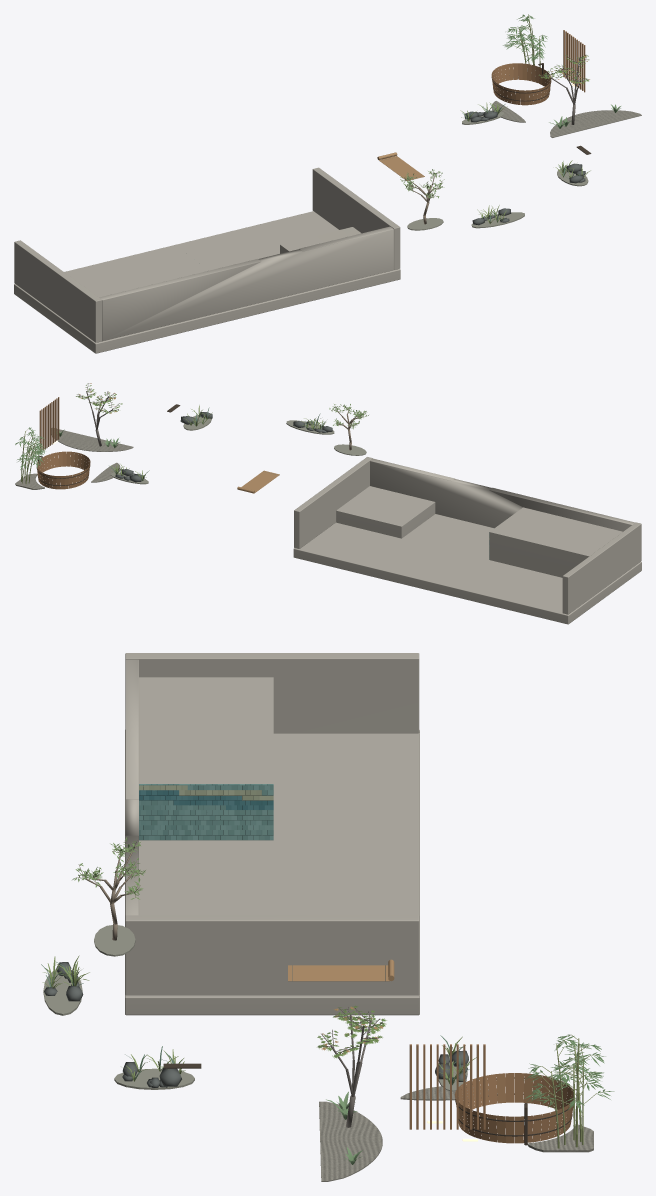
Rendered from detail-ocean-baths.glb.
The picture shows the model from 3 angles, top to bottom: view 1: azimuth 30°, elevation 25°; view 2: azimuth 150°, elevation 25°; view 3: azimuth 270°, elevation 25°; orthographic projection. The views are drawn at different scales.
Visible parts, largest first — view 1: core_estate_pool__warm cut stone, core_workout_garden_ofuro_staves__spa oiled cedar wood, core_bath_roji_gravel, core_workout_garden_gravel_beds__garden river gravel, core_workout_garden_bath_screen__spa oiled cedar wood, core_workout_garden_river_stones__garden flamed basalt, core_bath_roji_leaves, core_workout_garden_mat__garden cork; view 2: core_estate_pool__warm cut stone, core_workout_garden_ofuro_staves__spa oiled cedar wood, core_bath_roji_gravel, core_workout_garden_gravel_beds__garden river gravel, core_workout_garden_bath_screen__spa oiled cedar wood, core_workout_garden_river_stones__garden flamed basalt, core_bath_roji_leaves, core_workout_garden_mat__garden cork, core_workout_garden_sedge__coastal sedge leaf, core_bath_roji_culms, core_bath_roji_maple_limb; view 3: core_estate_pool__warm cut stone, core_workout_garden_ofuro_staves__spa oiled cedar wood, core_bath_roji_gravel, core_workout_garden_gravel_beds__garden river gravel, core_workout_garden_bath_screen__spa oiled cedar wood, core_workout_garden_mat__garden cork, core_workout_garden_river_stones__garden flamed basalt, core_bath_roji_leaves, core_bath_roji_culms, core_bath_roji_maple_limb, core_workout_garden_sedge__coastal sedge leaf, core_bath_roji_maple_crown (+2 smaller).
Boxes of the visible parts, x1,y1,x2,y2 form: core_estate_pool__warm cut stone: (14, 167, 400, 353); core_workout_garden_ofuro_staves__spa oiled cedar wood: (491, 63, 551, 105); core_bath_roji_gravel: (491, 69, 641, 137); core_workout_garden_gravel_beds__garden river gravel: (407, 112, 588, 230); core_workout_garden_bath_screen__spa oiled cedar wood: (563, 30, 585, 92); core_workout_garden_river_stones__garden flamed basalt: (464, 110, 585, 225); core_bath_roji_leaves: (503, 14, 547, 62); core_workout_garden_mat__garden cork: (377, 152, 424, 180); core_estate_pool__warm cut stone: (293, 457, 641, 624); core_workout_garden_ofuro_staves__spa oiled cedar wood: (37, 451, 90, 489); core_bath_roji_gravel: (15, 428, 133, 489); core_workout_garden_gravel_beds__garden river gravel: (110, 415, 366, 484); core_workout_garden_bath_screen__spa oiled cedar wood: (39, 397, 59, 451); core_workout_garden_river_stones__garden flamed basalt: (115, 412, 332, 482); core_bath_roji_leaves: (15, 427, 45, 469); core_workout_garden_mat__garden cork: (237, 470, 279, 493); core_workout_garden_sedge__coastal sedge leaf: (111, 405, 325, 480); core_bath_roji_culms: (20, 429, 43, 484); core_bath_roji_maple_limb: (78, 383, 119, 446); core_estate_pool__warm cut stone: (125, 653, 419, 1015); core_workout_garden_ofuro_staves__spa oiled cedar wood: (454, 1073, 573, 1143); core_bath_roji_gravel: (319, 1086, 593, 1181); core_workout_garden_gravel_beds__garden river gravel: (43, 925, 467, 1091); core_workout_garden_bath_screen__spa oiled cedar wood: (409, 1044, 485, 1129); core_workout_garden_mat__garden cork: (288, 959, 394, 981); core_workout_garden_river_stones__garden flamed basalt: (44, 962, 468, 1087); core_bath_roji_leaves: (524, 1034, 614, 1113); core_bath_roji_culms: (532, 1034, 605, 1148); core_bath_roji_maple_limb: (321, 1007, 382, 1127); core_workout_garden_sedge__coastal sedge leaf: (42, 955, 476, 1084); core_bath_roji_maple_crown: (317, 1005, 386, 1058).
Bounding box in the file's own units: 22.24 × 4.23 × 10.21.
20 materials, 2 textured.
